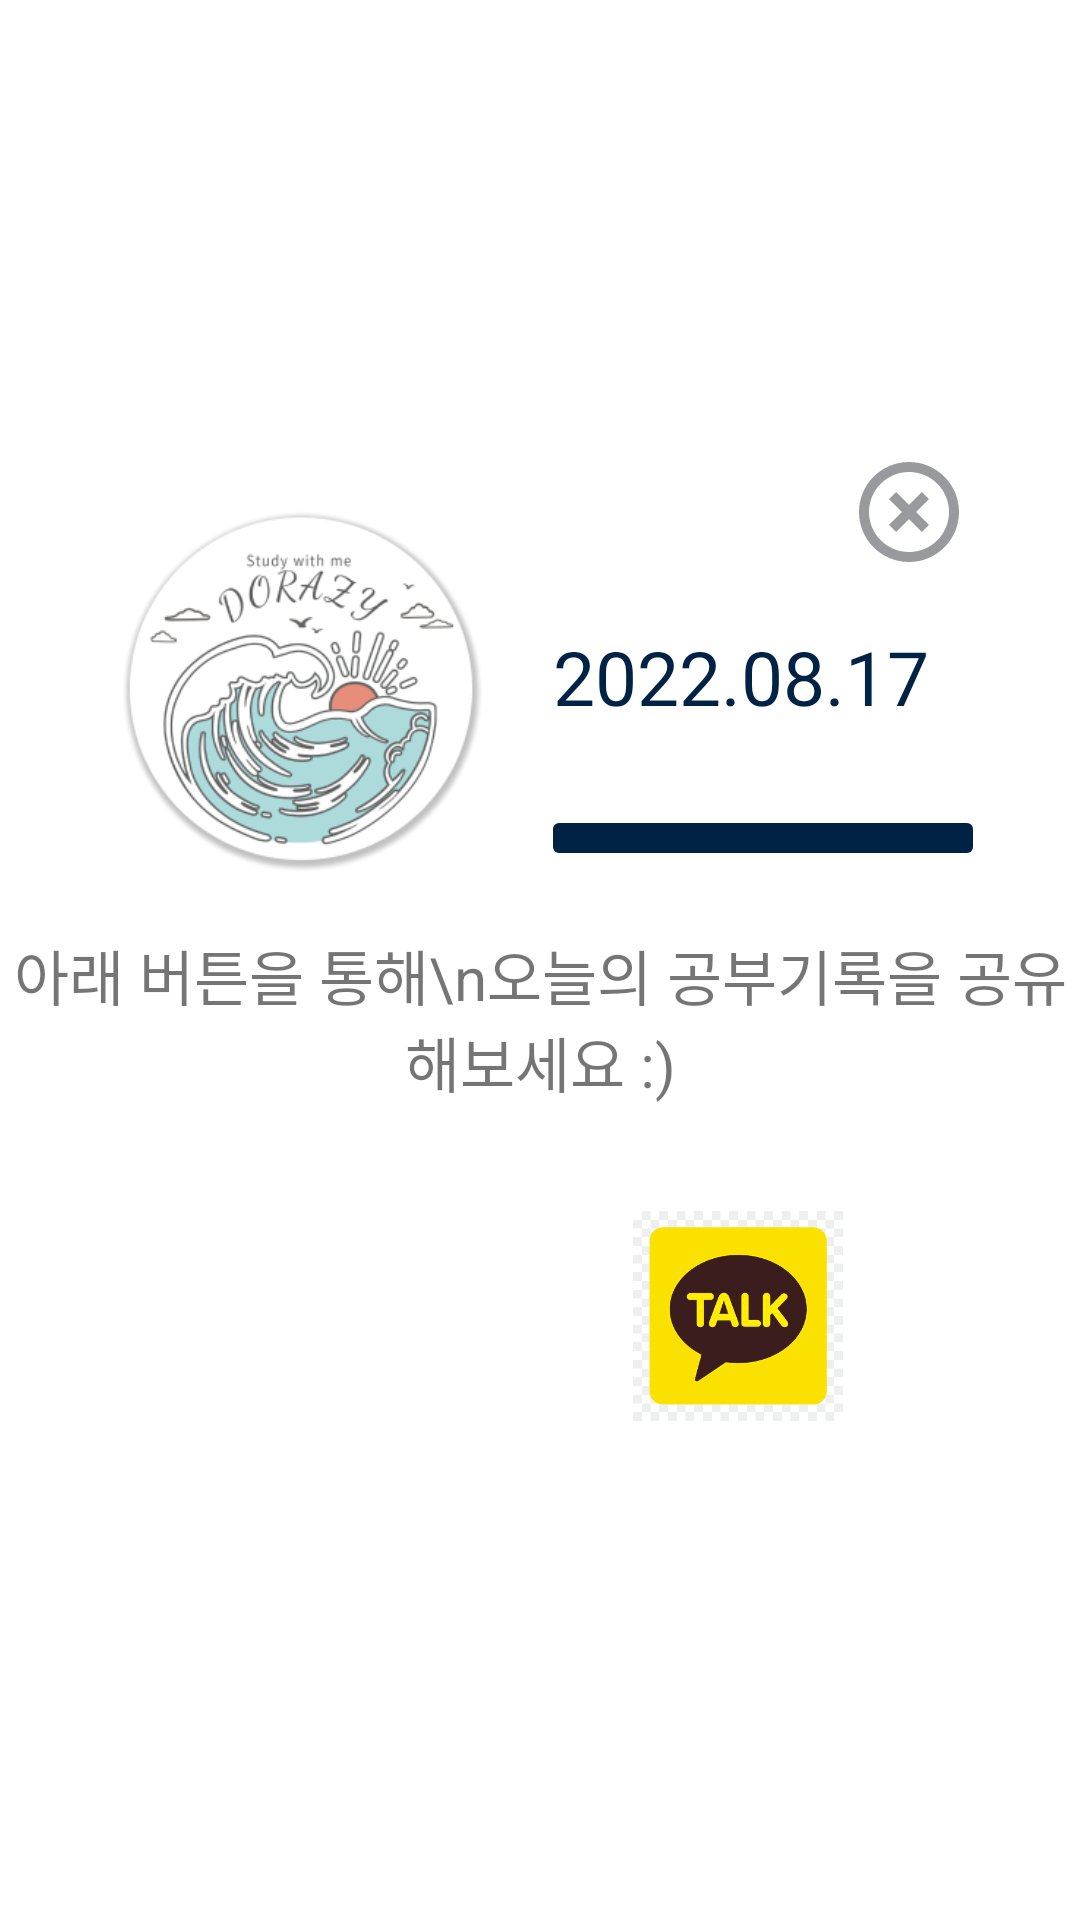

Screen size 1080×1920. Icon name, then its box in pixels as (x1, y1, x2, y2):
off: (859, 462, 959, 562)
